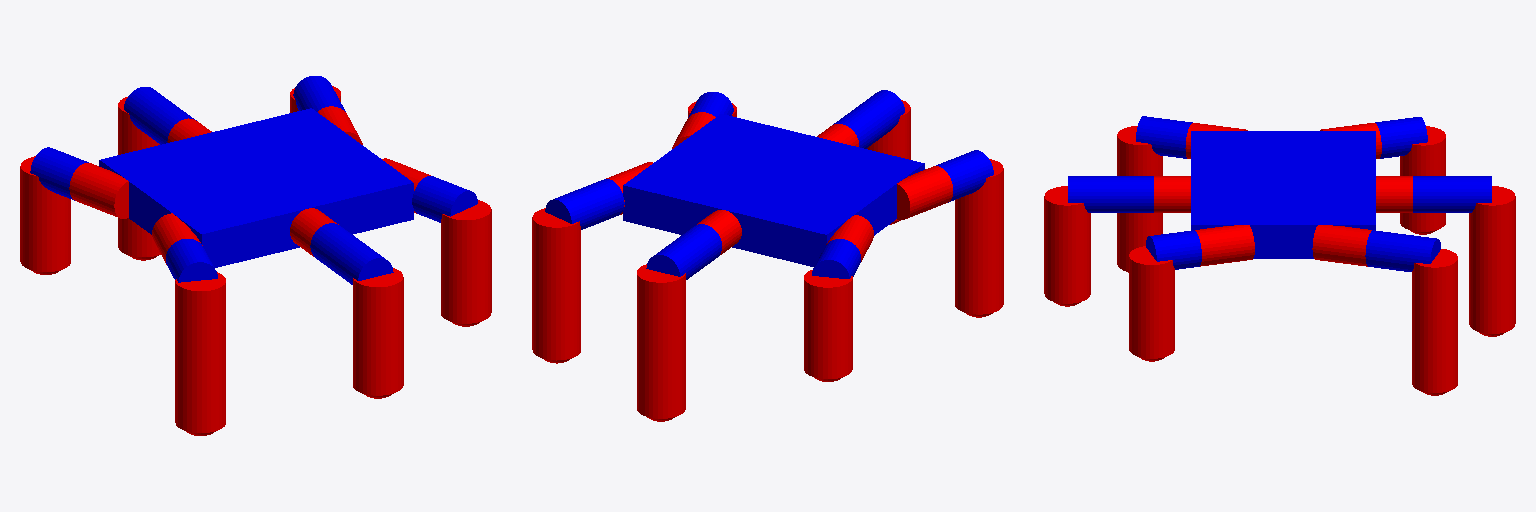
--- What the picture shows (computed from the rendered views, not written in the file) ---
The picture shows the robot from 3 angles, left to right: view 1: azimuth 30°, elevation 25°; view 2: azimuth 150°, elevation 25°; view 3: azimuth 270°, elevation 25°; orthographic projection.
Robot: pexod — 19 links, 18 joints (18 revolute); root link base_link; default pose: every joint at zero.
Visible links, largest first — view 1: base_link, leg_5_3, leg_4_3, leg_3_3, leg_0_3, leg_4_2, leg_0_1, leg_1_3, leg_1_2, leg_3_2, leg_5_2, leg_0_2 (+5 smaller); view 2: base_link, leg_1_3, leg_2_3, leg_5_3, leg_0_3, leg_2_2, leg_1_2, leg_5_1, leg_4_2, leg_5_2, leg_0_2, leg_4_3 (+5 smaller); view 3: base_link, leg_1_3, leg_2_3, leg_4_3, leg_3_3, leg_5_3, leg_4_2, leg_1_2, leg_0_3, leg_2_2, leg_2_1, leg_3_1 (+5 smaller).
Link boxes in pixels (left/top/right/bottom): base_link: left=99, top=108, right=413, bottom=267; leg_5_3: left=175, top=272, right=225, bottom=435; leg_4_3: left=353, top=268, right=403, bottom=398; leg_3_3: left=441, top=200, right=491, bottom=326; leg_0_3: left=20, top=156, right=70, bottom=274; leg_4_2: left=310, top=223, right=393, bottom=284; leg_0_1: left=69, top=163, right=128, bottom=218; leg_1_3: left=118, top=97, right=160, bottom=260; leg_1_2: left=124, top=87, right=196, bottom=144; leg_3_2: left=412, top=176, right=477, bottom=222; leg_5_2: left=166, top=239, right=217, bottom=282; leg_0_2: left=30, top=147, right=88, bottom=200; base_link: left=623, top=114, right=924, bottom=266; leg_1_3: left=637, top=264, right=685, bottom=421; leg_2_3: left=532, top=208, right=580, bottom=363; leg_5_3: left=955, top=159, right=1003, bottom=317; leg_0_3: left=804, top=270, right=852, bottom=381; leg_2_2: left=545, top=179, right=624, bottom=229; leg_1_2: left=646, top=224, right=721, bottom=279; leg_5_1: left=897, top=166, right=952, bottom=219; leg_4_2: left=833, top=90, right=904, bottom=148; leg_5_2: left=936, top=150, right=993, bottom=202; leg_0_2: left=812, top=239, right=860, bottom=278; leg_4_3: left=867, top=100, right=910, bottom=224; base_link: left=1191, top=131, right=1375, bottom=258; leg_1_3: left=1469, top=186, right=1515, bottom=336; leg_2_3: left=1412, top=249, right=1457, bottom=395; leg_4_3: left=1044, top=186, right=1090, bottom=306; leg_3_3: left=1129, top=246, right=1174, bottom=361; leg_5_3: left=1117, top=126, right=1162, bottom=272; leg_4_2: left=1068, top=176, right=1153, bottom=212; leg_1_2: left=1413, top=176, right=1491, bottom=212; leg_0_3: left=1400, top=126, right=1445, bottom=234; leg_2_2: left=1365, top=230, right=1440, bottom=271; leg_2_1: left=1312, top=225, right=1371, bottom=266; leg_3_1: left=1195, top=225, right=1254, bottom=266.
Bounding box of the posed robot: 0.3636 × 0.5094 × 0.186 m (x, y, z).
Geometry: primitives only (box / cylinder / sphere), no mesh files.

The robot description file, URDF, robot "pexod":
<?xml version="1.0" ?>
<!-- =================================================================================== -->
<!-- |    This document was autogenerated by xacro from pexod.xacro                    | -->
<!-- |    EDITING THIS FILE BY HAND IS NOT RECOMMENDED                                 | -->
<!-- =================================================================================== -->
<robot name="pexod" xmlns:xacro="http://www.ros.org/wiki/xacro">
  <!-- <xacro:include filename="$(find pexod_description)/urdf/pexod_control.xacro" /> -->
  <!-- MATERIALS -->
  <material name="Blue">
    <color rgba="0 0 1 1"/>
  </material>
  <material name="Red">
    <color rgba="1 0 0 1"/>
  </material>
  <material name="Green">
    <color rgba="0 1 0 1"/>
  </material>
  <material name="Yellow">
    <color rgba="1 1 0 1"/>
  </material>
  <material name="LightGrey">
    <color rgba="0.6 0.6 0.6 1.0"/>
  </material>
  <!-- END OF MATERIALS -->
  <!-- XACRO MACROS FOR VISUALS AND COLLISIONS -->
  <!-- END OF XACRO MACROS -->
  <!-- TORSO -->
  <link name="base_link">
    <visual>
      <origin rpy="0 0 0" xyz="0 0 0"/>
      <geometry>
        <box size="0.24 0.2 0.04"/>
      </geometry>
      <material name="Blue"/>
    </visual>
    <collision>
      <origin rpy="0 0 0" xyz="0 0 0"/>
      <geometry>
        <box size="0.24 0.2 0.04"/>
      </geometry>
    </collision>
    <inertial>
      <!-- CENTER OF MASS -->
      <origin rpy="0 0 0" xyz="0 0 0"/>
      <mass value="1.031"/>
      <!-- box inertia: 1/12*m(y^2+z^2), ... -->
      <inertia ixx="0.00357413333333" ixy="0" ixz="0" iyy="0.00508626666667" iyz="0" izz="0.00838546666667"/>
    </inertial>
  </link>
  <!-- XACRO MACRO FOR LEGS LINKS/JOINTS -->
  <!-- END OF LEG LINKS/JOINTS -->
  <joint name="body_leg_2" type="revolute">
    <parent link="base_link"/>
    <child link="leg_2_1"/>
    <limit effort="30.0" lower="-1.57079632679" upper="1.57079632679" velocity="7.0"/>
    <origin rpy="0 0 -0.3" xyz="0.11 0.04 0"/>
    <!-- <xacro:if value="${index == 5 or index == 4 or index == 3}">
                <axis xyz="0 0 1"/>
            </xacro:if>
            <xacro:if value="${index == 2 or index == 1 or index == 0}"> -->
    <axis xyz="0 0 1"/>
    <!-- </xacro:if> -->
    <dynamics damping="0.0"/>
  </joint>
  <link name="leg_2_1">
    <visual>
      <origin rpy="1.57079632679 0 0" xyz="0.01 0.03 0"/>
      <geometry>
        <cylinder length="0.06" radius="0.02"/>
      </geometry>
      <material name="Red"/>
    </visual>
    <collision>
      <origin rpy="1.57079632679 0 0" xyz="0.01 0.03 0"/>
      <geometry>
        <box size="0.02 0.02 0.06"/>
      </geometry>
    </collision>
    <inertial>
      <!-- CENTER OF MASS -->
      <origin rpy="1.57079632679 0 0" xyz="0.01 0.03 0"/>
      <mass value="0.02"/>
      <!-- box inertia: 1/12*m(y^2+z^2), ... -->
      <inertia ixx="6.66666666667e-06" ixy="0" ixz="0" iyy="6.66666666667e-06" iyz="0" izz="1.33333333333e-06"/>
    </inertial>
  </link>
  <joint name="leg_2_1_2" type="revolute">
    <parent link="leg_2_1"/>
    <child link="leg_2_2"/>
    <limit effort="30.0" lower="-0.78539816339" upper="0.78539816339" velocity="7.0"/>
    <origin rpy="0 0 0" xyz="0 0.06 0"/>
    <axis xyz="1 0 0"/>
    <dynamics damping="0.0"/>
  </joint>
  <link name="leg_2_2">
    <visual>
      <origin rpy="1.57079632679 0 0" xyz="0.01 0.0366723624519 0"/>
      <geometry>
        <cylinder length="0.0733447249039" radius="0.02"/>
      </geometry>
      <material name="Blue"/>
    </visual>
    <collision>
      <origin rpy="1.57079632679 0 0" xyz="0.01 0.0366723624519 0"/>
      <geometry>
        <box size="0.02 0.02 0.0733447249039"/>
      </geometry>
    </collision>
    <inertial>
      <!-- CENTER OF MASS -->
      <origin rpy="1.57079632679 0 0" xyz="0.01 0.0366723624519 0"/>
      <mass value="0.184"/>
      <!-- box inertia: 1/12*m(y^2+z^2), ... -->
      <inertia ixx="8.86182129588e-05" ixy="0" ixz="0" iyy="8.86182129588e-05" iyz="0" izz="1.22666666667e-05"/>
    </inertial>
  </link>
  <joint name="leg_2_2_3" type="revolute">
    <parent link="leg_2_2"/>
    <child link="leg_2_3"/>
    <limit effort="30.0" lower="-0.78539816339" upper="0.78539816339" velocity="7.0"/>
    <origin rpy="-1.57079632679 0 0" xyz="0 0.0733447249039 0"/>
    <axis xyz="-1 0 0"/>
    <dynamics damping="0.0"/>
  </joint>
  <link name="leg_2_3">
    <visual>
      <origin rpy="1.57079632679 0 0" xyz="0.0125 0.0748274916275 0"/>
      <geometry>
        <cylinder length="0.149654983255" radius="0.025"/>
      </geometry>
      <material name="Red"/>
    </visual>
    <visual>
      <origin rpy="1.57079632679 0 0" xyz="0.0125 0.137154983255 0"/>
      <geometry>
        <sphere radius="0.025"/>
      </geometry>
      <material name="Red"/>
    </visual>
    <collision>
      <origin rpy="1.57079632679 0 0" xyz="0.0125 0.0748274916275 0"/>
      <geometry>
        <box size="0.025 0.025 0.149654983255"/>
      </geometry>
    </collision>
    <collision>
      <origin rpy="1.57079632679 0 0" xyz="0.0125 0.137154983255 0"/>
      <geometry>
        <sphere radius="0.025"/>
      </geometry>
      <material name="Red"/>
    </collision>
    <inertial>
      <!-- CENTER OF MASS -->
      <origin rpy="1.57079632679 0 0" xyz="0.0125 0.0748274916275 0"/>
      <mass value="0.04"/>
      <!-- box inertia: 1/12*m(y^2+z^2), ... -->
      <inertia ixx="7.67387133768e-05" ixy="0" ixz="0" iyy="7.67387133768e-05" iyz="0" izz="4.16666666667e-06"/>
    </inertial>
  </link>
  <joint name="body_leg_3" type="revolute">
    <parent link="base_link"/>
    <child link="leg_3_1"/>
    <limit effort="30.0" lower="-1.57079632679" upper="1.57079632679" velocity="7.0"/>
    <origin rpy="0 0 0.3" xyz="0.11 -0.04 0"/>
    <!-- <xacro:if value="${index == 5 or index == 4 or index == 3}">
                <axis xyz="0 0 1"/>
            </xacro:if>
            <xacro:if value="${index == 2 or index == 1 or index == 0}"> -->
    <axis xyz="0 0 1"/>
    <!-- </xacro:if> -->
    <dynamics damping="0.0"/>
  </joint>
  <link name="leg_3_1">
    <visual>
      <origin rpy="1.57079632679 0 0" xyz="0.01 -0.03 0"/>
      <geometry>
        <cylinder length="0.06" radius="0.02"/>
      </geometry>
      <material name="Red"/>
    </visual>
    <collision>
      <origin rpy="1.57079632679 0 0" xyz="0.01 -0.03 0"/>
      <geometry>
        <box size="0.02 0.02 0.06"/>
      </geometry>
    </collision>
    <inertial>
      <!-- CENTER OF MASS -->
      <origin rpy="1.57079632679 0 0" xyz="0.01 -0.03 0"/>
      <mass value="0.02"/>
      <!-- box inertia: 1/12*m(y^2+z^2), ... -->
      <inertia ixx="6.66666666667e-06" ixy="0" ixz="0" iyy="6.66666666667e-06" iyz="0" izz="1.33333333333e-06"/>
    </inertial>
  </link>
  <joint name="leg_3_1_2" type="revolute">
    <parent link="leg_3_1"/>
    <child link="leg_3_2"/>
    <limit effort="30.0" lower="-0.78539816339" upper="0.78539816339" velocity="7.0"/>
    <origin rpy="0 0 0" xyz="0 -0.06 0"/>
    <axis xyz="-1 0 0"/>
    <dynamics damping="0.0"/>
  </joint>
  <link name="leg_3_2">
    <visual>
      <origin rpy="1.57079632679 0 0" xyz="0.01 -0.0254714754984 0"/>
      <geometry>
        <cylinder length="0.0509429509968" radius="0.02"/>
      </geometry>
      <material name="Blue"/>
    </visual>
    <collision>
      <origin rpy="1.57079632679 0 0" xyz="0.01 -0.0254714754984 0"/>
      <geometry>
        <box size="0.02 0.02 0.0509429509968"/>
      </geometry>
    </collision>
    <inertial>
      <!-- CENTER OF MASS -->
      <origin rpy="1.57079632679 0 0" xyz="0.01 -0.0254714754984 0"/>
      <mass value="0.184"/>
      <!-- box inertia: 1/12*m(y^2+z^2), ... -->
      <inertia ixx="4.5926158596e-05" ixy="0" ixz="0" iyy="4.5926158596e-05" iyz="0" izz="1.22666666667e-05"/>
    </inertial>
  </link>
  <joint name="leg_3_2_3" type="revolute">
    <parent link="leg_3_2"/>
    <child link="leg_3_3"/>
    <limit effort="30.0" lower="-0.78539816339" upper="0.78539816339" velocity="7.0"/>
    <origin rpy="1.57079632679 0 0" xyz="0 -0.0509429509968 0"/>
    <axis xyz="1 0 0"/>
    <dynamics damping="0.0"/>
  </joint>
  <link name="leg_3_3">
    <visual>
      <origin rpy="1.57079632679 0 0" xyz="0.0125 -0.055915832411 0"/>
      <geometry>
        <cylinder length="0.111831664822" radius="0.025"/>
      </geometry>
      <material name="Red"/>
    </visual>
    <visual>
      <origin rpy="1.57079632679 0 0" xyz="0.0125 -0.099331664822 0"/>
      <geometry>
        <sphere radius="0.025"/>
      </geometry>
      <material name="Red"/>
    </visual>
    <collision>
      <origin rpy="1.57079632679 0 0" xyz="0.0125 -0.055915832411 0"/>
      <geometry>
        <box size="0.025 0.025 0.111831664822"/>
      </geometry>
    </collision>
    <collision>
      <origin rpy="1.57079632679 0 0" xyz="0.0125 -0.099331664822 0"/>
      <geometry>
        <sphere radius="0.025"/>
      </geometry>
      <material name="Red"/>
    </collision>
    <inertial>
      <!-- CENTER OF MASS -->
      <origin rpy="1.57079632679 0 0" xyz="0.0125 -0.055915832411 0"/>
      <mass value="0.04"/>
      <!-- box inertia: 1/12*m(y^2+z^2), ... -->
      <inertia ixx="4.37710708562e-05" ixy="0" ixz="0" iyy="4.37710708562e-05" iyz="0" izz="4.16666666667e-06"/>
    </inertial>
  </link>
  <joint name="body_leg_0" type="revolute">
    <parent link="base_link"/>
    <child link="leg_0_1"/>
    <limit effort="30.0" lower="-1.57079632679" upper="1.57079632679" velocity="7.0"/>
    <origin rpy="0 0 0.3" xyz="-0.13 0.04 0"/>
    <!-- <xacro:if value="${index == 5 or index == 4 or index == 3}">
                <axis xyz="0 0 1"/>
            </xacro:if>
            <xacro:if value="${index == 2 or index == 1 or index == 0}"> -->
    <axis xyz="0 0 1"/>
    <!-- </xacro:if> -->
    <dynamics damping="0.0"/>
  </joint>
  <link name="leg_0_1">
    <visual>
      <origin rpy="1.57079632679 0 0" xyz="0.01 0.03 0"/>
      <geometry>
        <cylinder length="0.06" radius="0.02"/>
      </geometry>
      <material name="Red"/>
    </visual>
    <collision>
      <origin rpy="1.57079632679 0 0" xyz="0.01 0.03 0"/>
      <geometry>
        <box size="0.02 0.02 0.06"/>
      </geometry>
    </collision>
    <inertial>
      <!-- CENTER OF MASS -->
      <origin rpy="1.57079632679 0 0" xyz="0.01 0.03 0"/>
      <mass value="0.02"/>
      <!-- box inertia: 1/12*m(y^2+z^2), ... -->
      <inertia ixx="6.66666666667e-06" ixy="0" ixz="0" iyy="6.66666666667e-06" iyz="0" izz="1.33333333333e-06"/>
    </inertial>
  </link>
  <joint name="leg_0_1_2" type="revolute">
    <parent link="leg_0_1"/>
    <child link="leg_0_2"/>
    <limit effort="30.0" lower="-0.78539816339" upper="0.78539816339" velocity="7.0"/>
    <origin rpy="0 0 0" xyz="0 0.06 0"/>
    <axis xyz="1 0 0"/>
    <dynamics damping="0.0"/>
  </joint>
  <link name="leg_0_2">
    <visual>
      <origin rpy="1.57079632679 0 0" xyz="0.01 0.0260583313244 0"/>
      <geometry>
        <cylinder length="0.0521166626489" radius="0.02"/>
      </geometry>
      <material name="Blue"/>
    </visual>
    <collision>
      <origin rpy="1.57079632679 0 0" xyz="0.01 0.0260583313244 0"/>
      <geometry>
        <box size="0.02 0.02 0.0521166626489"/>
      </geometry>
    </collision>
    <inertial>
      <!-- CENTER OF MASS -->
      <origin rpy="1.57079632679 0 0" xyz="0.01 0.0260583313244 0"/>
      <mass value="0.184"/>
      <!-- box inertia: 1/12*m(y^2+z^2), ... -->
      <inertia ixx="4.77809133934e-05" ixy="0" ixz="0" iyy="4.77809133934e-05" iyz="0" izz="1.22666666667e-05"/>
    </inertial>
  </link>
  <joint name="leg_0_2_3" type="revolute">
    <parent link="leg_0_2"/>
    <child link="leg_0_3"/>
    <limit effort="30.0" lower="-0.78539816339" upper="0.78539816339" velocity="7.0"/>
    <origin rpy="-1.57079632679 0 0" xyz="0 0.0521166626489 0"/>
    <axis xyz="-1 0 0"/>
    <dynamics damping="0.0"/>
  </joint>
  <link name="leg_0_3">
    <visual>
      <origin rpy="1.57079632679 0 0" xyz="0.0125 0.0515754844255 0"/>
      <geometry>
        <cylinder length="0.103150968851" radius="0.025"/>
      </geometry>
      <material name="Red"/>
    </visual>
    <visual>
      <origin rpy="1.57079632679 0 0" xyz="0.0125 0.090650968851 0"/>
      <geometry>
        <sphere radius="0.025"/>
      </geometry>
      <material name="Red"/>
    </visual>
    <collision>
      <origin rpy="1.57079632679 0 0" xyz="0.0125 0.0515754844255 0"/>
      <geometry>
        <box size="0.025 0.025 0.103150968851"/>
      </geometry>
    </collision>
    <collision>
      <origin rpy="1.57079632679 0 0" xyz="0.0125 0.090650968851 0"/>
      <geometry>
        <sphere radius="0.025"/>
      </geometry>
      <material name="Red"/>
    </collision>
    <inertial>
      <!-- CENTER OF MASS -->
      <origin rpy="1.57079632679 0 0" xyz="0.0125 0.0515754844255 0"/>
      <mass value="0.04"/>
      <!-- box inertia: 1/12*m(y^2+z^2), ... -->
      <inertia ixx="3.75504079163e-05" ixy="0" ixz="0" iyy="3.75504079163e-05" iyz="0" izz="4.16666666667e-06"/>
    </inertial>
  </link>
  <joint name="body_leg_5" type="revolute">
    <parent link="base_link"/>
    <child link="leg_5_1"/>
    <limit effort="30.0" lower="-1.57079632679" upper="1.57079632679" velocity="7.0"/>
    <origin rpy="0 0 -0.3" xyz="-0.13 -0.04 0"/>
    <!-- <xacro:if value="${index == 5 or index == 4 or index == 3}">
                <axis xyz="0 0 1"/>
            </xacro:if>
            <xacro:if value="${index == 2 or index == 1 or index == 0}"> -->
    <axis xyz="0 0 1"/>
    <!-- </xacro:if> -->
    <dynamics damping="0.0"/>
  </joint>
  <link name="leg_5_1">
    <visual>
      <origin rpy="1.57079632679 0 0" xyz="0.01 -0.03 0"/>
      <geometry>
        <cylinder length="0.06" radius="0.02"/>
      </geometry>
      <material name="Red"/>
    </visual>
    <collision>
      <origin rpy="1.57079632679 0 0" xyz="0.01 -0.03 0"/>
      <geometry>
        <box size="0.02 0.02 0.06"/>
      </geometry>
    </collision>
    <inertial>
      <!-- CENTER OF MASS -->
      <origin rpy="1.57079632679 0 0" xyz="0.01 -0.03 0"/>
      <mass value="0.02"/>
      <!-- box inertia: 1/12*m(y^2+z^2), ... -->
      <inertia ixx="6.66666666667e-06" ixy="0" ixz="0" iyy="6.66666666667e-06" iyz="0" izz="1.33333333333e-06"/>
    </inertial>
  </link>
  <joint name="leg_5_1_2" type="revolute">
    <parent link="leg_5_1"/>
    <child link="leg_5_2"/>
    <limit effort="30.0" lower="-0.78539816339" upper="0.78539816339" velocity="7.0"/>
    <origin rpy="0 0 0" xyz="0 -0.06 0"/>
    <axis xyz="-1 0 0"/>
    <dynamics damping="0.0"/>
  </joint>
  <link name="leg_5_2">
    <visual>
      <origin rpy="1.57079632679 0 0" xyz="0.01 -0.0282241476527 0"/>
      <geometry>
        <cylinder length="0.0564482953054" radius="0.02"/>
      </geometry>
      <material name="Blue"/>
    </visual>
    <collision>
      <origin rpy="1.57079632679 0 0" xyz="0.01 -0.0282241476527 0"/>
      <geometry>
        <box size="0.02 0.02 0.0564482953054"/>
      </geometry>
    </collision>
    <inertial>
      <!-- CENTER OF MASS -->
      <origin rpy="1.57079632679 0 0" xyz="0.01 -0.0282241476527 0"/>
      <mass value="0.184"/>
      <!-- box inertia: 1/12*m(y^2+z^2), ... -->
      <inertia ixx="5.49916206576e-05" ixy="0" ixz="0" iyy="5.49916206576e-05" iyz="0" izz="1.22666666667e-05"/>
    </inertial>
  </link>
  <joint name="leg_5_2_3" type="revolute">
    <parent link="leg_5_2"/>
    <child link="leg_5_3"/>
    <limit effort="30.0" lower="-0.78539816339" upper="0.78539816339" velocity="7.0"/>
    <origin rpy="1.57079632679 0 0" xyz="0 -0.0564482953054 0"/>
    <axis xyz="1 0 0"/>
    <dynamics damping="0.0"/>
  </joint>
  <link name="leg_5_3">
    <visual>
      <origin rpy="1.57079632679 0 0" xyz="0.0125 -0.076733983667 0"/>
      <geometry>
        <cylinder length="0.153467967334" radius="0.025"/>
      </geometry>
      <material name="Red"/>
    </visual>
    <visual>
      <origin rpy="1.57079632679 0 0" xyz="0.0125 -0.140967967334 0"/>
      <geometry>
        <sphere radius="0.025"/>
      </geometry>
      <material name="Red"/>
    </visual>
    <collision>
      <origin rpy="1.57079632679 0 0" xyz="0.0125 -0.076733983667 0"/>
      <geometry>
        <box size="0.025 0.025 0.153467967334"/>
      </geometry>
    </collision>
    <collision>
      <origin rpy="1.57079632679 0 0" xyz="0.0125 -0.140967967334 0"/>
      <geometry>
        <sphere radius="0.025"/>
      </geometry>
      <material name="Red"/>
    </collision>
    <inertial>
      <!-- CENTER OF MASS -->
      <origin rpy="1.57079632679 0 0" xyz="0.0125 -0.076733983667 0"/>
      <mass value="0.04"/>
      <!-- box inertia: 1/12*m(y^2+z^2), ... -->
      <inertia ixx="8.05913899921e-05" ixy="0" ixz="0" iyy="8.05913899921e-05" iyz="0" izz="4.16666666667e-06"/>
    </inertial>
  </link>
  <joint name="body_leg_1" type="revolute">
    <parent link="base_link"/>
    <child link="leg_1_1"/>
    <limit effort="30.0" lower="-1.57079632679" upper="1.57079632679" velocity="7.0"/>
    <origin rpy="0 0 0" xyz="-0.01 0.08 0"/>
    <!-- <xacro:if value="${index == 5 or index == 4 or index == 3}">
                <axis xyz="0 0 1"/>
            </xacro:if>
            <xacro:if value="${index == 2 or index == 1 or index == 0}"> -->
    <axis xyz="0 0 1"/>
    <!-- </xacro:if> -->
    <dynamics damping="0.0"/>
  </joint>
  <link name="leg_1_1">
    <visual>
      <origin rpy="1.57079632679 0 0" xyz="0.01 0.03 0"/>
      <geometry>
        <cylinder length="0.06" radius="0.02"/>
      </geometry>
      <material name="Red"/>
    </visual>
    <collision>
      <origin rpy="1.57079632679 0 0" xyz="0.01 0.03 0"/>
      <geometry>
        <box size="0.02 0.02 0.06"/>
      </geometry>
    </collision>
    <inertial>
      <!-- CENTER OF MASS -->
      <origin rpy="1.57079632679 0 0" xyz="0.01 0.03 0"/>
      <mass value="0.02"/>
      <!-- box inertia: 1/12*m(y^2+z^2), ... -->
      <inertia ixx="6.66666666667e-06" ixy="0" ixz="0" iyy="6.66666666667e-06" iyz="0" izz="1.33333333333e-06"/>
    </inertial>
  </link>
  <joint name="leg_1_1_2" type="revolute">
    <parent link="leg_1_1"/>
    <child link="leg_1_2"/>
    <limit effort="30.0" lower="-0.78539816339" upper="0.78539816339" velocity="7.0"/>
    <origin rpy="0 0 0" xyz="0 0.06 0"/>
    <axis xyz="1 0 0"/>
    <dynamics damping="0.0"/>
  </joint>
  <link name="leg_1_2">
    <visual>
      <origin rpy="1.57079632679 0 0" xyz="0.01 0.0428577311262 0"/>
      <geometry>
        <cylinder length="0.0857154622525" radius="0.02"/>
      </geometry>
      <material name="Blue"/>
    </visual>
    <collision>
      <origin rpy="1.57079632679 0 0" xyz="0.01 0.0428577311262 0"/>
      <geometry>
        <box size="0.02 0.02 0.0857154622525"/>
      </geometry>
    </collision>
    <inertial>
      <!-- CENTER OF MASS -->
      <origin rpy="1.57079632679 0 0" xyz="0.01 0.0428577311262 0"/>
      <mass value="0.184"/>
      <!-- box inertia: 1/12*m(y^2+z^2), ... -->
      <inertia ixx="0.000118789487194" ixy="0" ixz="0" iyy="0.000118789487194" iyz="0" izz="1.22666666667e-05"/>
    </inertial>
  </link>
  <joint name="leg_1_2_3" type="revolute">
    <parent link="leg_1_2"/>
    <child link="leg_1_3"/>
    <limit effort="30.0" lower="-0.78539816339" upper="0.78539816339" velocity="7.0"/>
    <origin rpy="-1.57079632679 0 0" xyz="0 0.0857154622525 0"/>
    <axis xyz="-1 0 0"/>
    <dynamics damping="0.0"/>
  </joint>
  <link name="leg_1_3">
    <visual>
      <origin rpy="1.57079632679 0 0" xyz="0.0125 0.076639853592 0"/>
      <geometry>
        <cylinder length="0.153279707184" radius="0.025"/>
      </geometry>
      <material name="Red"/>
    </visual>
    <visual>
      <origin rpy="1.57079632679 0 0" xyz="0.0125 0.140779707184 0"/>
      <geometry>
        <sphere radius="0.025"/>
      </geometry>
      <material name="Red"/>
    </visual>
    <collision>
      <origin rpy="1.57079632679 0 0" xyz="0.0125 0.076639853592 0"/>
      <geometry>
        <box size="0.025 0.025 0.153279707184"/>
      </geometry>
    </collision>
    <collision>
      <origin rpy="1.57079632679 0 0" xyz="0.0125 0.140779707184 0"/>
      <geometry>
        <sphere radius="0.025"/>
      </geometry>
      <material name="Red"/>
    </collision>
    <inertial>
      <!-- CENTER OF MASS -->
      <origin rpy="1.57079632679 0 0" xyz="0.0125 0.076639853592 0"/>
      <mass value="0.04"/>
      <!-- box inertia: 1/12*m(y^2+z^2), ... -->
      <inertia ixx="8.0398895448e-05" ixy="0" ixz="0" iyy="8.0398895448e-05" iyz="0" izz="4.16666666667e-06"/>
    </inertial>
  </link>
  <joint name="body_leg_4" type="revolute">
    <parent link="base_link"/>
    <child link="leg_4_1"/>
    <limit effort="30.0" lower="-1.57079632679" upper="1.57079632679" velocity="7.0"/>
    <origin rpy="0 0 0" xyz="-0.01 -0.08 0"/>
    <!-- <xacro:if value="${index == 5 or index == 4 or index == 3}">
                <axis xyz="0 0 1"/>
            </xacro:if>
            <xacro:if value="${index == 2 or index == 1 or index == 0}"> -->
    <axis xyz="0 0 1"/>
    <!-- </xacro:if> -->
    <dynamics damping="0.0"/>
  </joint>
  <link name="leg_4_1">
    <visual>
      <origin rpy="1.57079632679 0 0" xyz="0.01 -0.03 0"/>
      <geometry>
        <cylinder length="0.06" radius="0.02"/>
      </geometry>
      <material name="Red"/>
    </visual>
    <collision>
      <origin rpy="1.57079632679 0 0" xyz="0.01 -0.03 0"/>
      <geometry>
        <box size="0.02 0.02 0.06"/>
      </geometry>
    </collision>
    <inertial>
      <!-- CENTER OF MASS -->
      <origin rpy="1.57079632679 0 0" xyz="0.01 -0.03 0"/>
      <mass value="0.02"/>
      <!-- box inertia: 1/12*m(y^2+z^2), ... -->
      <inertia ixx="6.66666666667e-06" ixy="0" ixz="0" iyy="6.66666666667e-06" iyz="0" izz="1.33333333333e-06"/>
    </inertial>
  </link>
  <joint name="leg_4_1_2" type="revolute">
    <parent link="leg_4_1"/>
    <child link="leg_4_2"/>
    <limit effort="30.0" lower="-0.78539816339" upper="0.78539816339" velocity="7.0"/>
    <origin rpy="0 0 0" xyz="0 -0.06 0"/>
    <axis xyz="-1 0 0"/>
    <dynamics damping="0.0"/>
  </joint>
  <link name="leg_4_2">
    <visual>
      <origin rpy="1.57079632679 0 0" xyz="0.01 -0.0468328670944 0"/>
      <geometry>
        <cylinder length="0.0936657341887" radius="0.02"/>
      </geometry>
      <material name="Blue"/>
    </visual>
    <collision>
      <origin rpy="1.57079632679 0 0" xyz="0.01 -0.0468328670944 0"/>
      <geometry>
        <box size="0.02 0.02 0.0936657341887"/>
      </geometry>
    </collision>
    <inertial>
      <!-- CENTER OF MASS -->
      <origin rpy="1.57079632679 0 0" xyz="0.01 -0.0468328670944 0"/>
      <mass value="0.184"/>
      <!-- box inertia: 1/12*m(y^2+z^2), ... -->
      <inertia ixx="0.000140656803004" ixy="0" ixz="0" iyy="0.000140656803004" iyz="0" izz="1.22666666667e-05"/>
    </inertial>
  </link>
  <joint name="leg_4_2_3" type="revolute">
    <parent link="leg_4_2"/>
    <child link="leg_4_3"/>
    <limit effort="30.0" lower="-0.78539816339" upper="0.78539816339" velocity="7.0"/>
    <origin rpy="1.57079632679 0 0" xyz="0 -0.0936657341887 0"/>
    <axis xyz="1 0 0"/>
    <dynamics damping="0.0"/>
  </joint>
  <link name="leg_4_3">
    <visual>
      <origin rpy="1.57079632679 0 0" xyz="0.0125 -0.058598695517 0"/>
      <geometry>
        <cylinder length="0.117197391034" radius="0.025"/>
      </geometry>
      <material name="Red"/>
    </visual>
    <visual>
      <origin rpy="1.57079632679 0 0" xyz="0.0125 -0.104697391034 0"/>
      <geometry>
        <sphere radius="0.025"/>
      </geometry>
      <material name="Red"/>
    </visual>
    <collision>
      <origin rpy="1.57079632679 0 0" xyz="0.0125 -0.058598695517 0"/>
      <geometry>
        <box size="0.025 0.025 0.117197391034"/>
      </geometry>
    </collision>
    <collision>
      <origin rpy="1.57079632679 0 0" xyz="0.0125 -0.104697391034 0"/>
      <geometry>
        <sphere radius="0.025"/>
      </geometry>
      <material name="Red"/>
    </collision>
    <inertial>
      <!-- CENTER OF MASS -->
      <origin rpy="1.57079632679 0 0" xyz="0.0125 -0.058598695517 0"/>
      <mass value="0.04"/>
      <!-- box inertia: 1/12*m(y^2+z^2), ... -->
      <inertia ixx="4.78674282173e-05" ixy="0" ixz="0" iyy="4.78674282173e-05" iyz="0" izz="4.16666666667e-06"/>
    </inertial>
  </link>
  <!-- END OF LEG LINKS/JOINTS -->
</robot>
